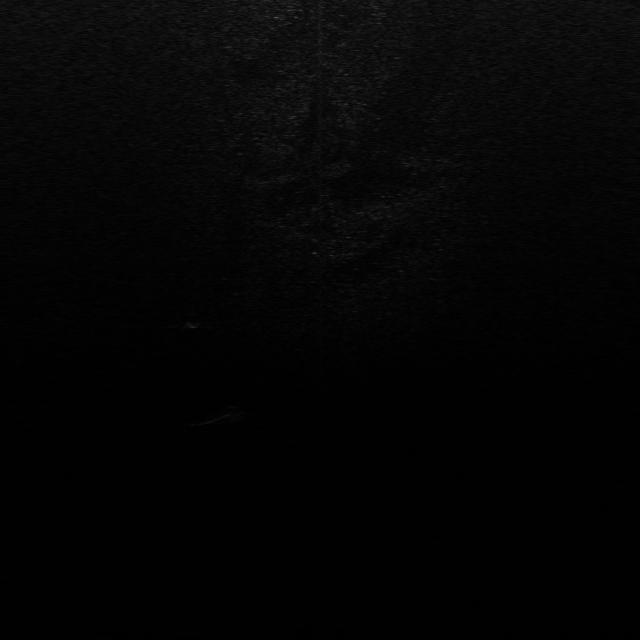ball: (213, 404, 244, 424)
circle cage: (183, 309, 204, 329)
